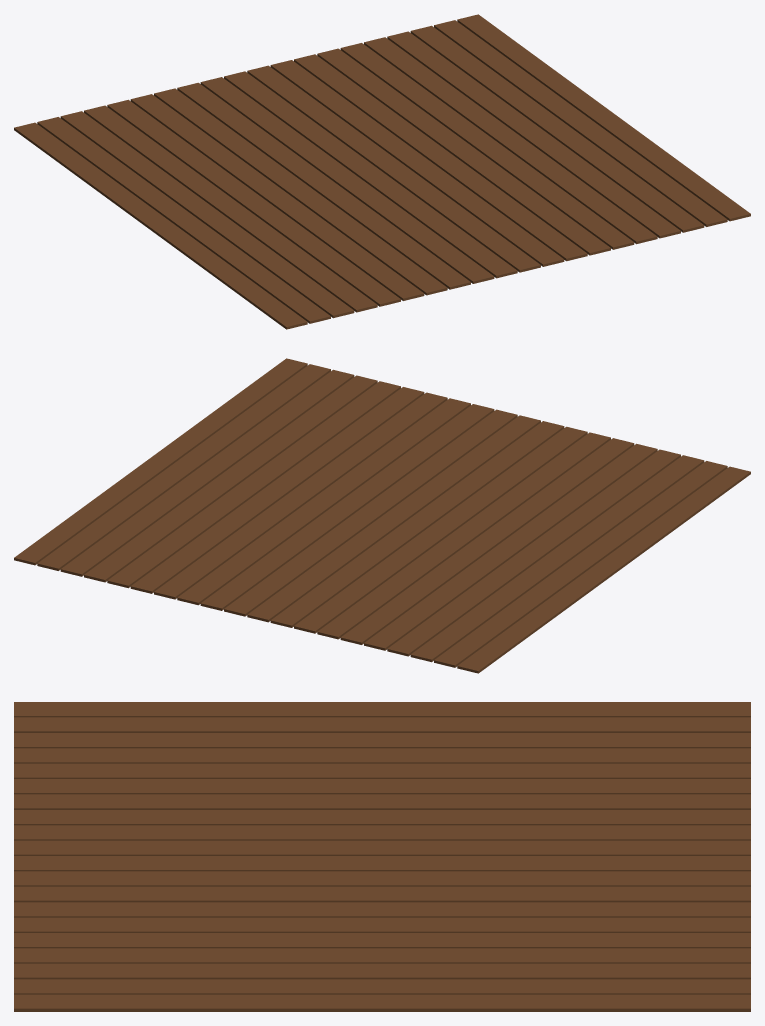
The model's file is Floor wood2.fbx.
The picture shows the model from 3 angles, top to bottom: view 1: azimuth 30°, elevation 25°; view 2: azimuth 150°, elevation 25°; view 3: azimuth 270°, elevation 25°; orthographic projection. The views are drawn at different scales.
Visible parts, largest first — view 1: Floor wood5; view 2: Floor wood5; view 3: Floor wood5.
Part boxes in pixels (left/top/right/bottom): Floor wood5: left=14, top=14, right=750, bottom=329; Floor wood5: left=14, top=358, right=750, bottom=673; Floor wood5: left=14, top=702, right=750, bottom=1011.
Size of the model in its own units: 11.86 by 0.0603 by 12.05.
